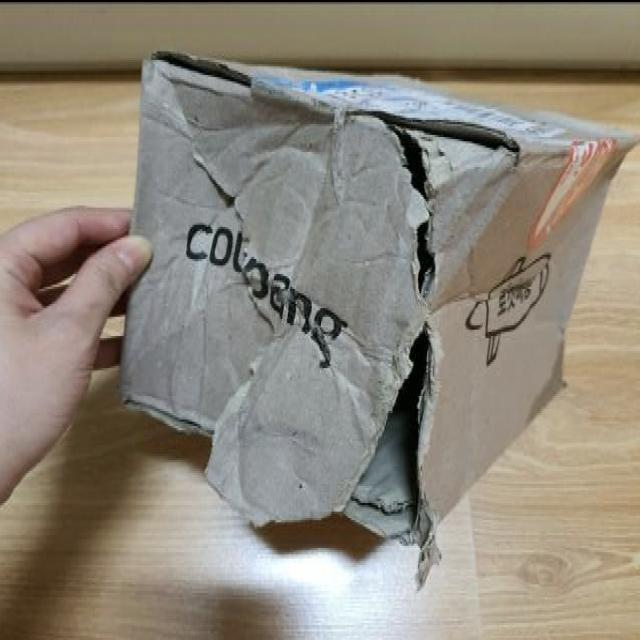hole: (295, 314, 450, 572), (369, 114, 515, 287)
